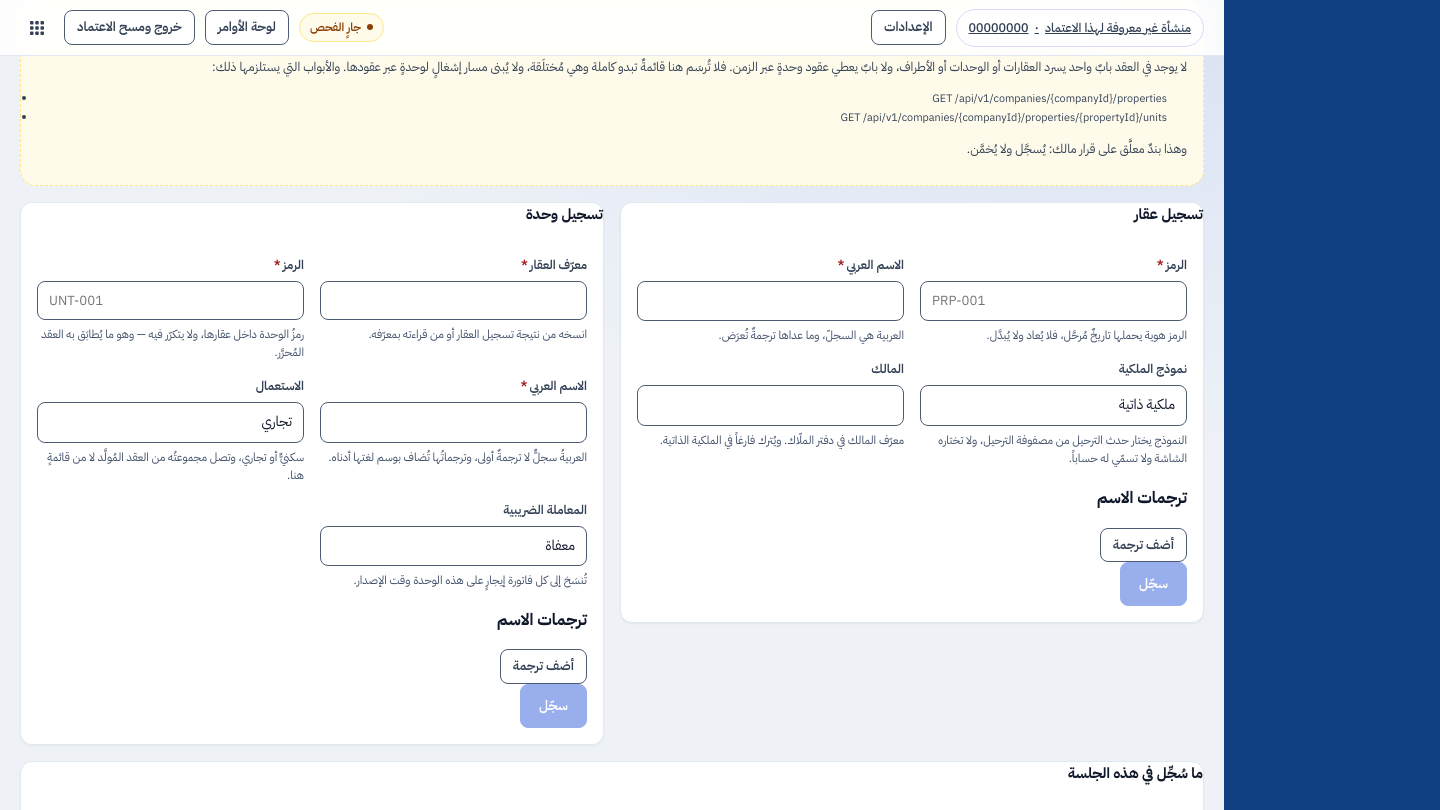
it: الرفض حالةٌ أولى مقيمة › رفض التسجيل يُسمّى قبل الإرسال: نموذجٌ مُدار بلا مالك
(page scrolled)
Select "مُدار لصالح الغير" in the dropdown with test id "re-prop-model" at (1054, 406), box left=920, top=385, right=1187, bottom=426
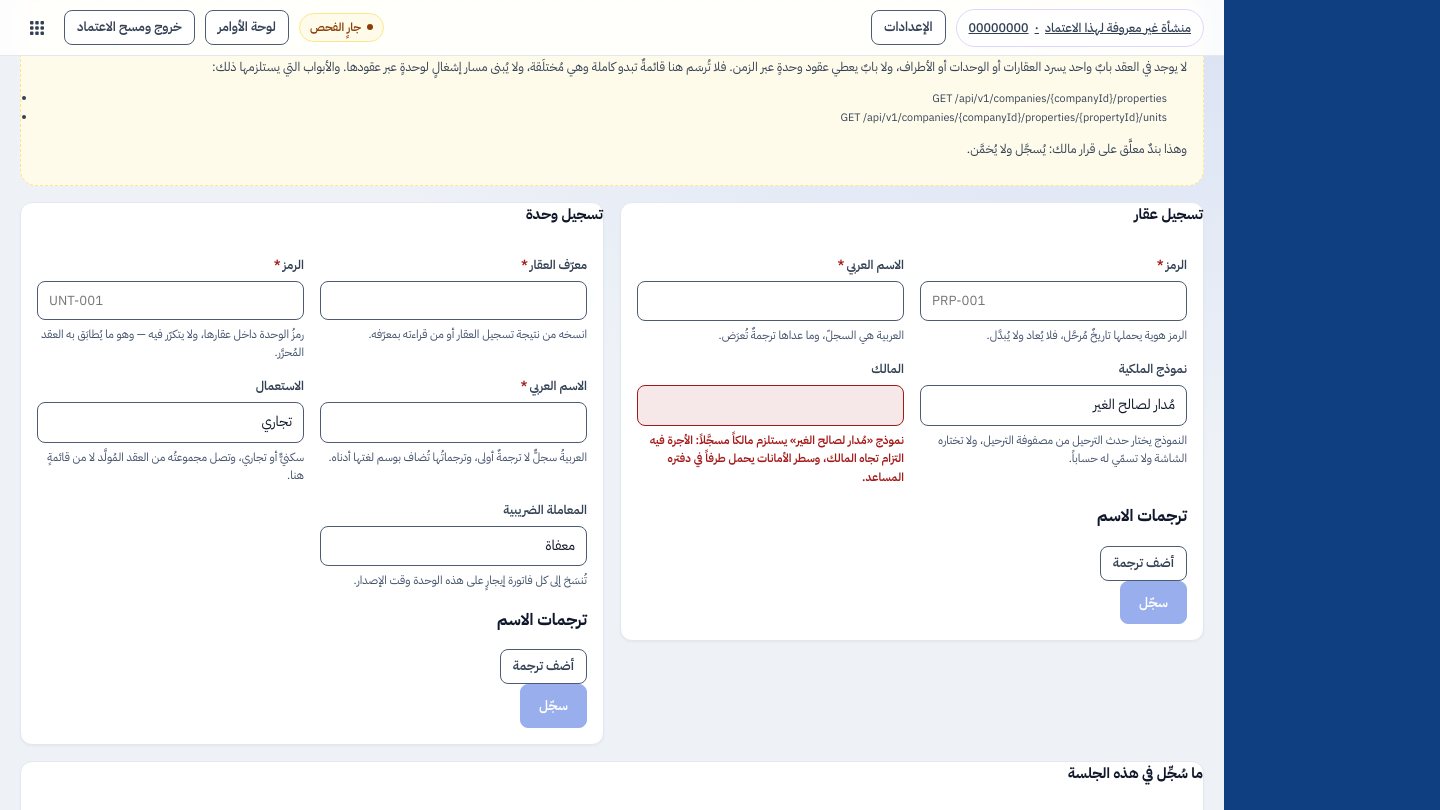
Expected: the message with test id "re-prop-needs-owner" shows "مالكاً مسجَّلاً", left=650, top=432, right=904, bottom=486
